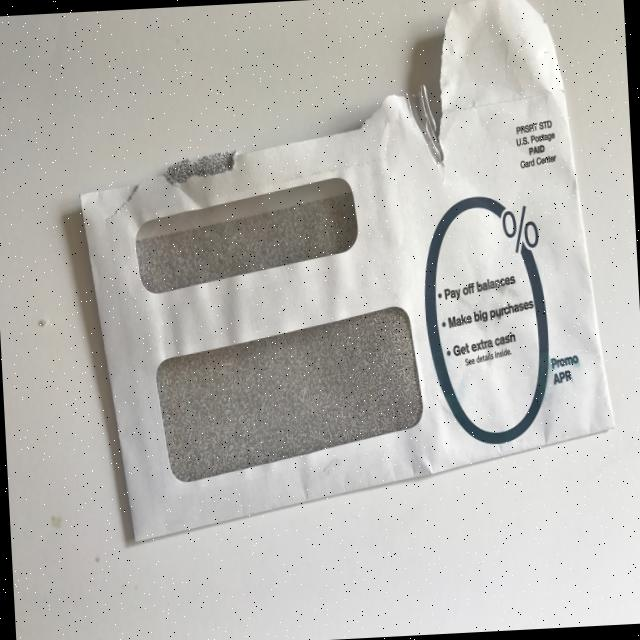paper: (68, 0, 619, 544)
